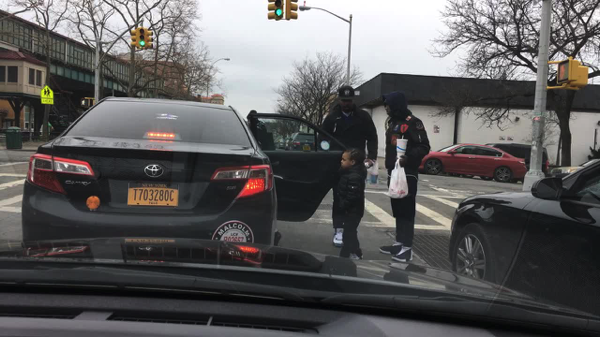car: (21, 96, 347, 250), (447, 158, 599, 317), (418, 145, 526, 183), (484, 142, 550, 178), (550, 158, 598, 179), (292, 134, 316, 152), (286, 132, 294, 151), (283, 136, 292, 150), (277, 138, 285, 148)
person: (317, 86, 378, 247), (381, 90, 431, 261), (336, 146, 367, 259)
traffic light: (556, 58, 577, 84), (571, 66, 588, 91), (286, 1, 297, 21), (137, 28, 146, 48), (268, 1, 276, 21), (146, 30, 154, 50), (274, 1, 282, 20), (130, 29, 137, 46), (80, 97, 89, 108)
traffic sign: (41, 86, 55, 104), (355, 92, 360, 96)
